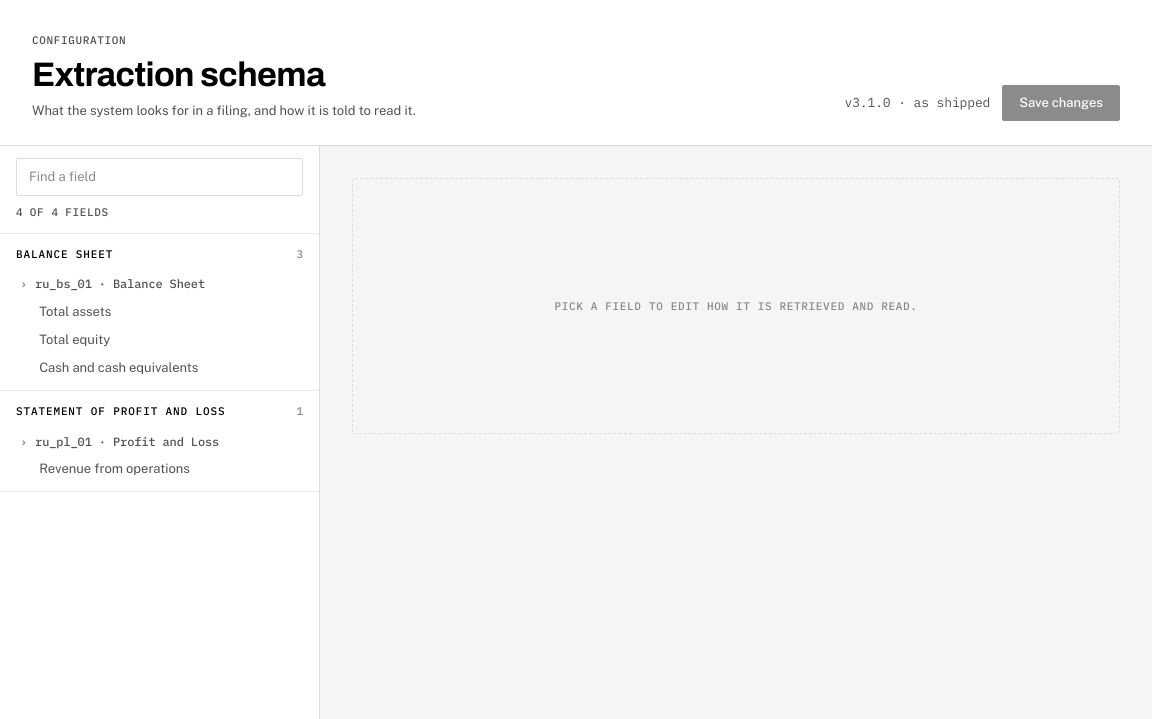
SchemaScreen › saves an edited prompt against the version it loaded
Check: the button "Save changes" is disabled, box [1002,85,1120,121]
Step 1. Click the button "Total assets" → (75, 312), box [0,298,319,326]
(page scrolled)
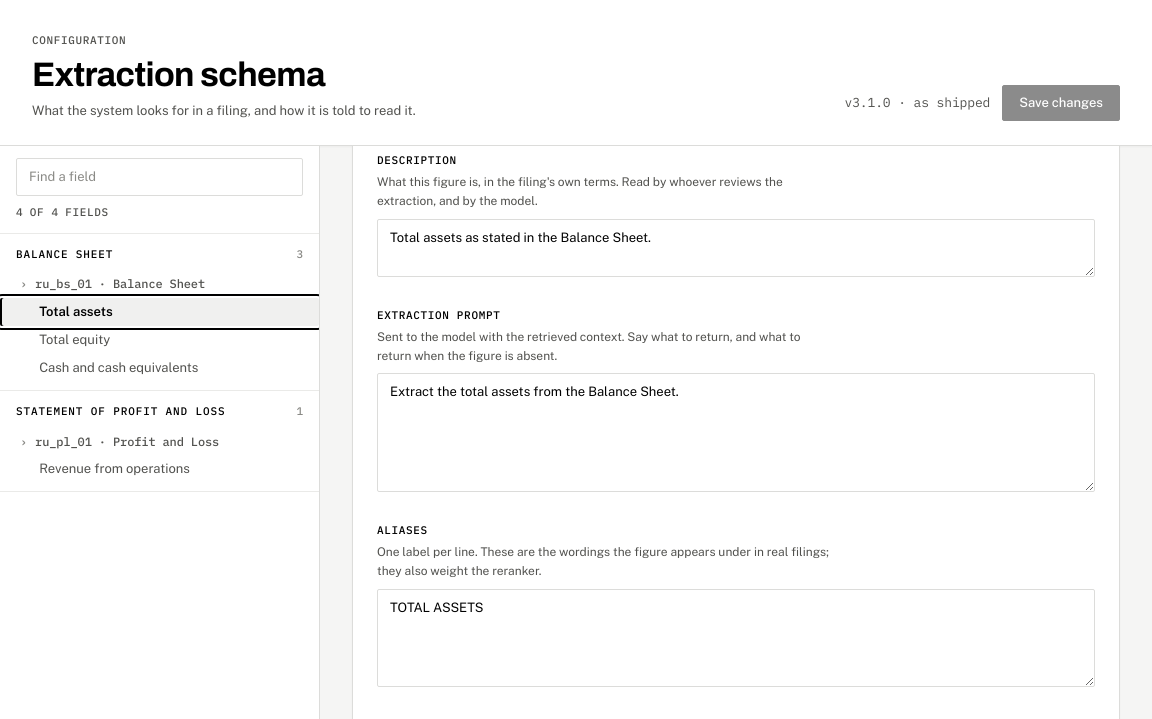
Step 2. Type " Return null if absent." into the text box labelled "Extraction prompt" → (736, 433), box [377,373,1095,492]
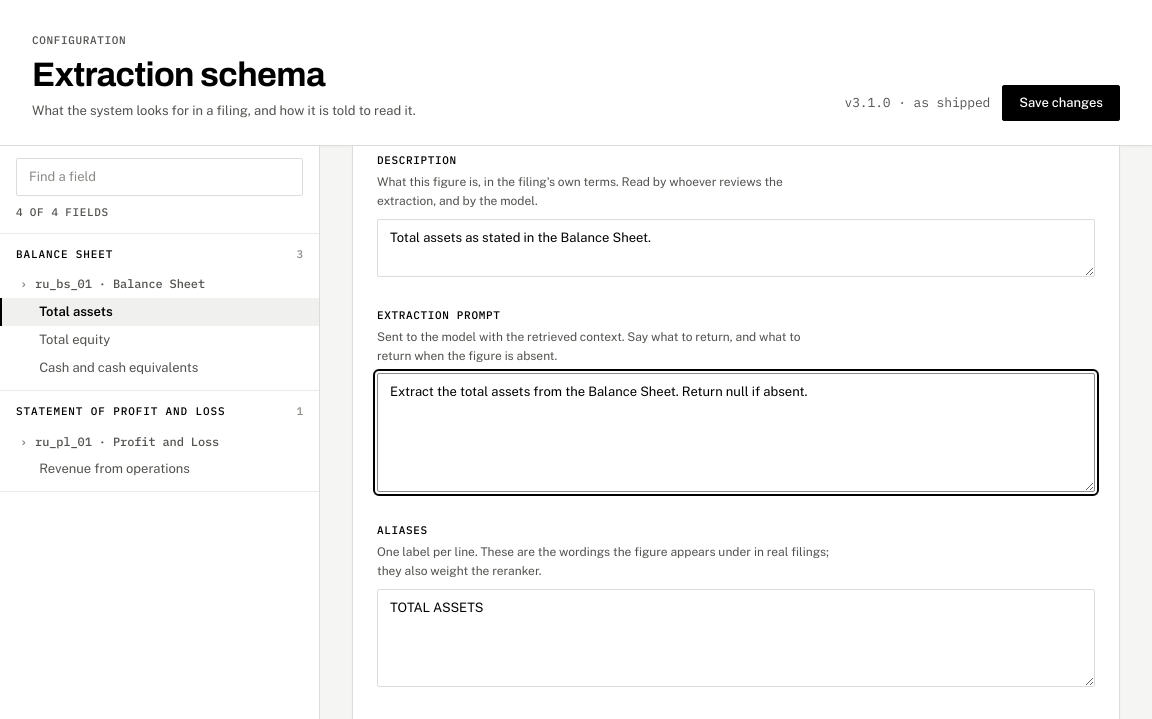
Check: the button "Save changes" is enabled
Step 3. Click the button "Save changes" → (1061, 103), box [1002,85,1120,121]
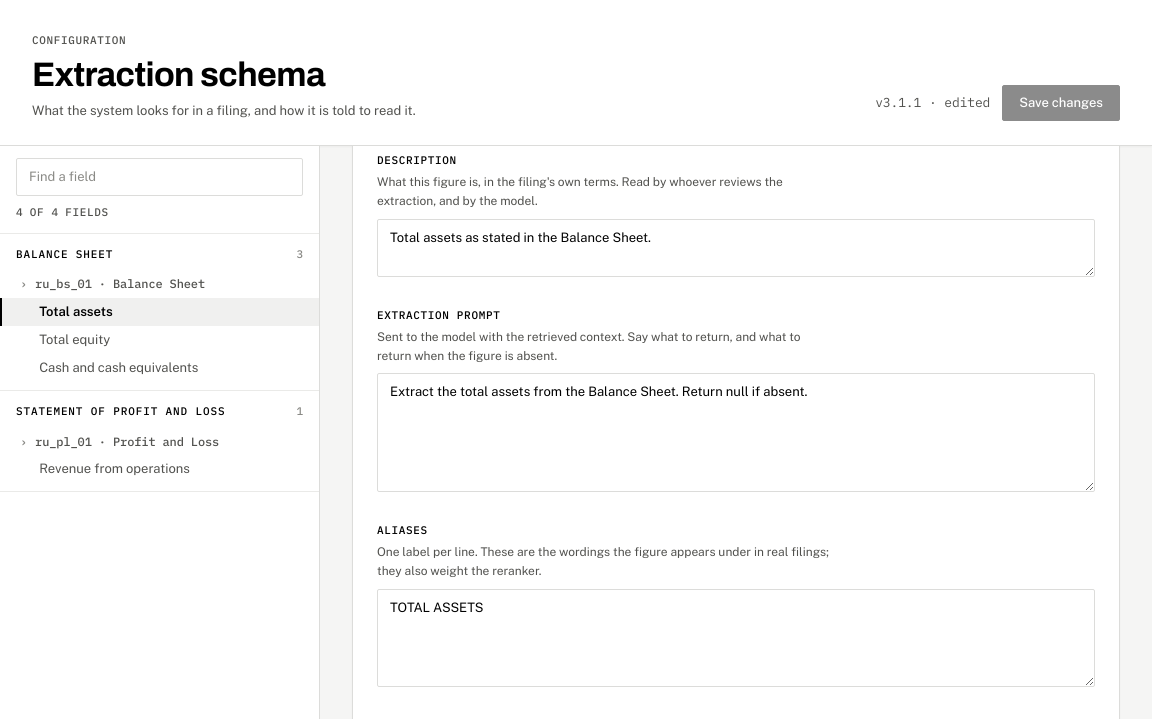
Check: the text "v3.1.1 · edited" is shown, box [875,93,990,113]
Check: the button "Save changes" is disabled, box [1002,85,1120,121]
